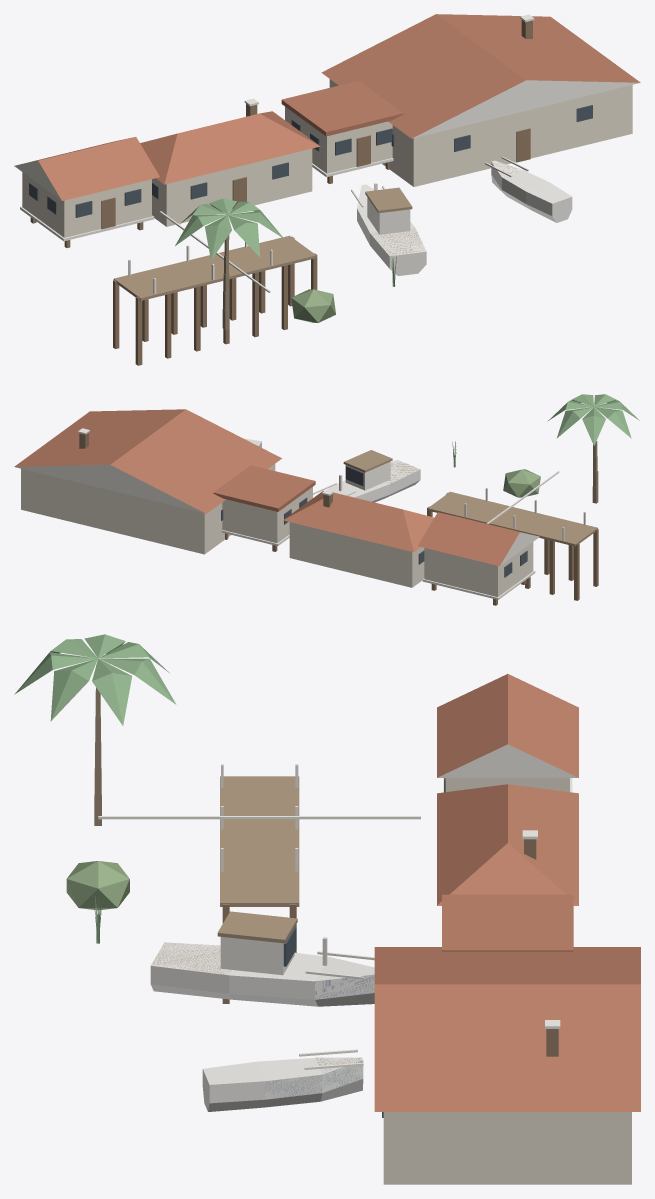
The model's file is common-kit.glb.
3 renders of one model, top to bottom at view 1: azimuth 30°, elevation 25°; view 2: azimuth 150°, elevation 25°; view 3: azimuth 270°, elevation 25°, orthographic. The views are drawn at different scales.
Visible parts, largest first — view 1: KIT_House_H_D.003, KIT_House_H_B.004, KIT_House_H_A.004, PROP_Jetty, KIT_House_H_C.004, KIT_SurveyBoat, KIT_PALM, KIT_LocalBoat, KIT_SHRUB; view 2: KIT_House_H_D.003, KIT_House_H_B.004, KIT_House_H_A.004, KIT_House_H_C.004, PROP_Jetty, KIT_SurveyBoat, KIT_PALM, KIT_SHRUB; view 3: KIT_House_H_D.003, KIT_House_H_B.004, KIT_SurveyBoat, KIT_House_H_A.004, PROP_Jetty, KIT_House_H_C.004, KIT_PALM, KIT_LocalBoat, KIT_SHRUB.
Boxes of the visible parts, x1,y1,x2,y2 form: KIT_House_H_D.003: (321,14,640,186); KIT_House_H_B.004: (140,98,320,226); KIT_House_H_A.004: (14,137,159,247); PROP_Jetty: (113,211,317,365); KIT_House_H_C.004: (281,80,403,183); KIT_SurveyBoat: (351,183,426,275); KIT_PALM: (175,198,283,329); KIT_LocalBoat: (485,156,572,222); KIT_SHRUB: (291,289,335,322); KIT_House_H_D.003: (14,409,281,554); KIT_House_H_B.004: (283,489,433,587); KIT_House_H_A.004: (418,512,539,605); KIT_House_H_C.004: (213,465,315,551); PROP_Jetty: (427,471,598,600); KIT_SurveyBoat: (313,450,420,502); KIT_PALM: (547,394,639,503); KIT_SHRUB: (503,469,540,497); KIT_House_H_D.003: (374,947,640,1184); KIT_House_H_B.004: (437,784,578,905); KIT_SurveyBoat: (150,911,374,1006); KIT_House_H_A.004: (437,674,578,792); PROP_Jetty: (98,764,420,1003); KIT_House_H_C.004: (442,894,573,951); KIT_PALM: (14,634,176,825); KIT_LocalBoat: (202,1049,363,1111); KIT_SHRUB: (66,861,129,910).
Size of the model in its own units: 38.22 by 11.35 by 25.25.
